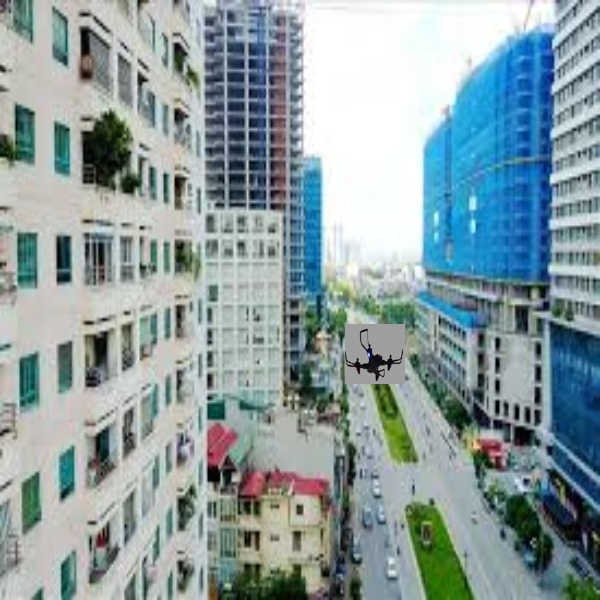drone: (342, 321, 407, 382)
